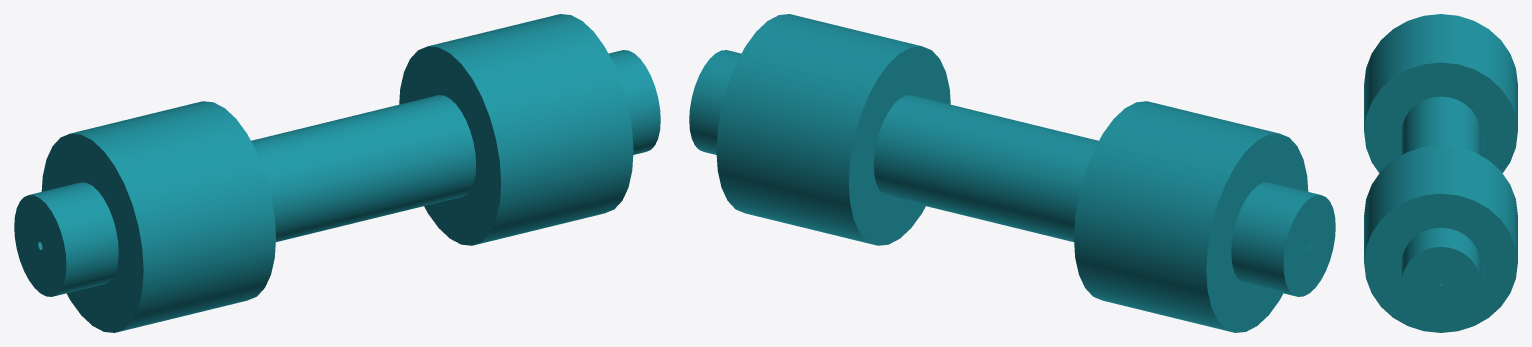
Rendered from eje.dae.
3 views of the same model, side by side, from view 1: azimuth 30°, elevation 25°; view 2: azimuth 150°, elevation 25°; view 3: azimuth 270°, elevation 25° (orthographic). The views are drawn at different scales.
Parts seen in each view (by area): view 1: tren; view 2: tren; view 3: tren.
Part boxes in pixels (box(x1,y1,x2,y2)): tren: box(14, 14, 660, 332); tren: box(689, 14, 1335, 332); tren: box(1364, 14, 1517, 332).
Size of the model in its own units: 50.49 by 15.05 by 15.05.
